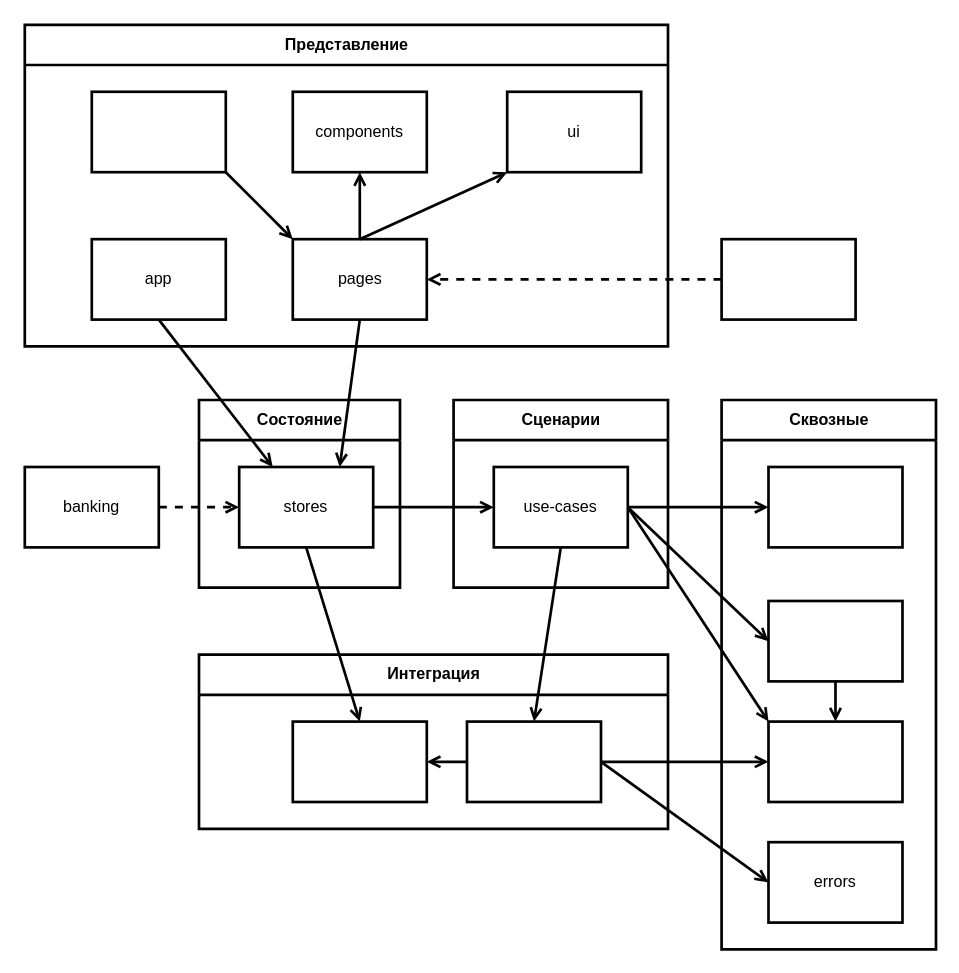
This 959x973 diagram has some shape labels left out. Each missing label, with the centre of its shape:
api: (533,761)
auth: (834,640)
contracts: (834,761)
network: (359,761)
oauth: (834,506)
router: (158,131)
utils: (788,278)
